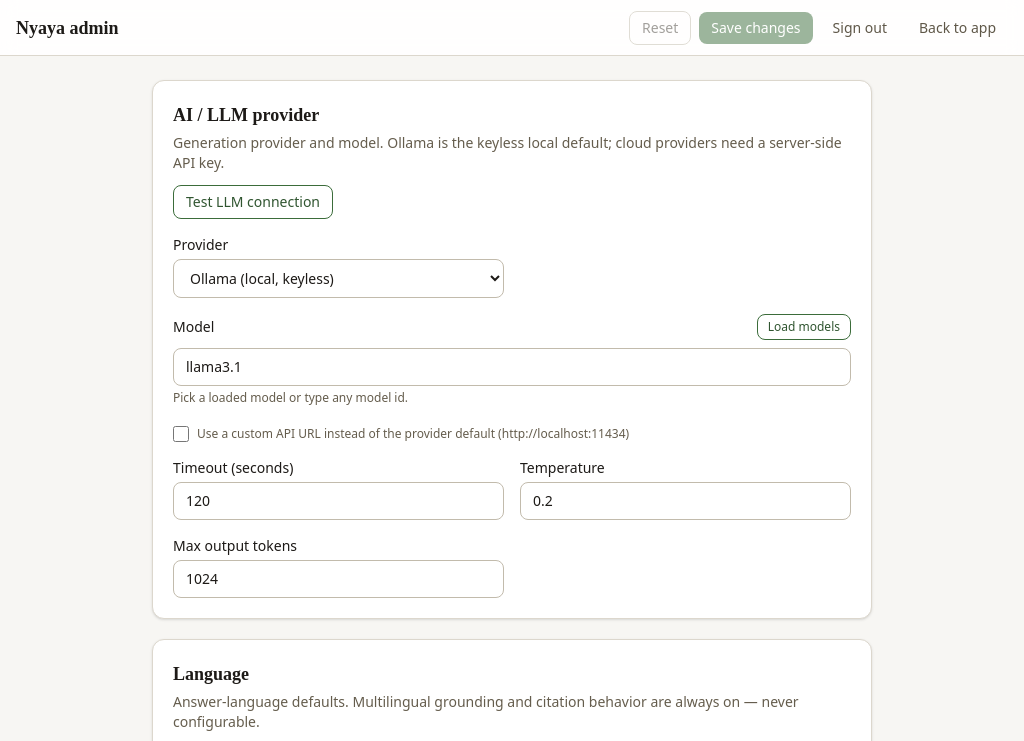
it: AdminPanel settings › runs a connection test and shows latency
The image size is (1024, 741).
Expected: the heading "AI / LLM provider" is shown, [173, 105, 319, 125]
Click the button "Test LLM connection".
click(253, 202)  # box [173, 185, 333, 219]
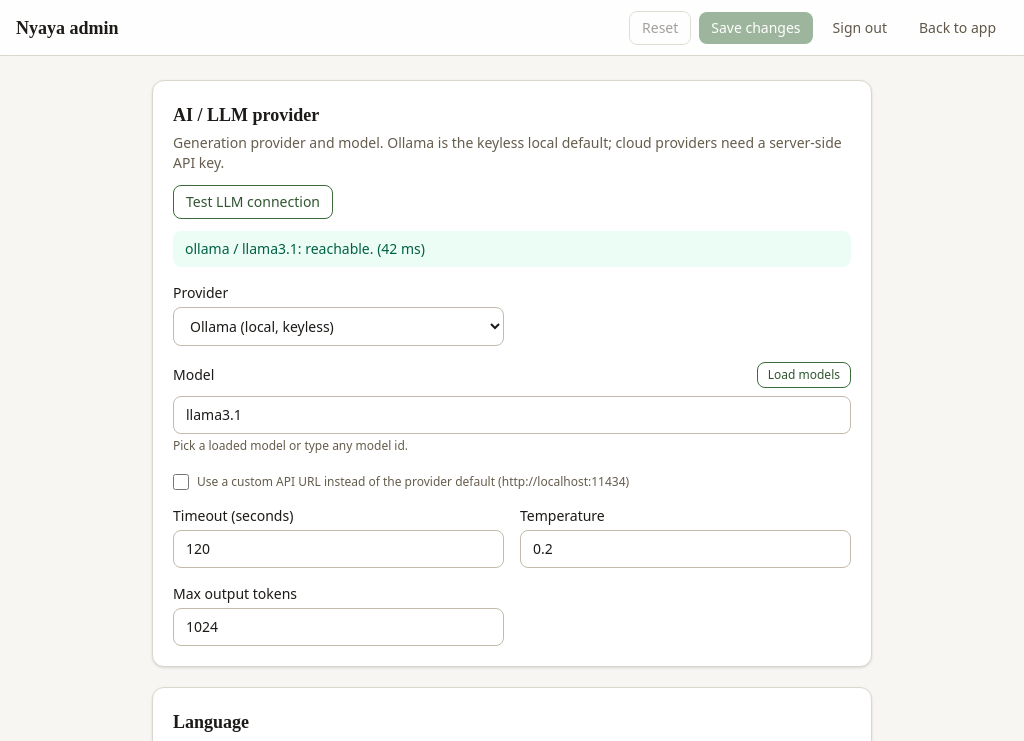
Now the text "ollama / llama3.1: reachable. (42 ms)" is shown, box [173, 231, 851, 267]
